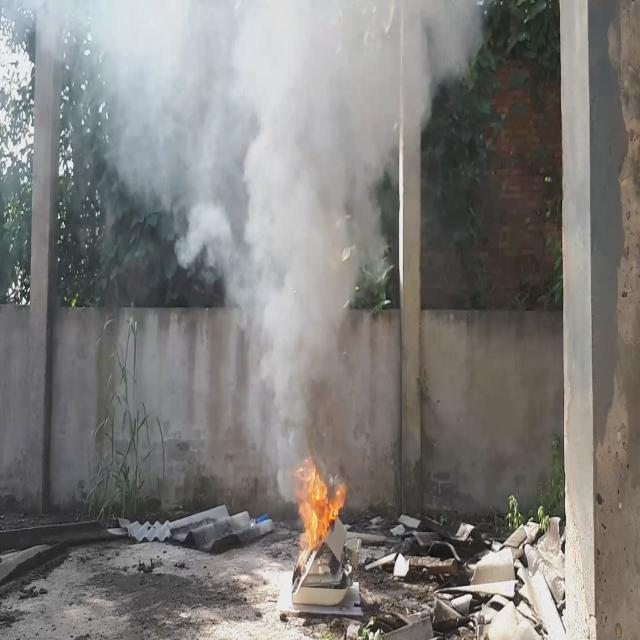Fire: (294, 456, 347, 567)
Smoke: (0, 0, 480, 504)
